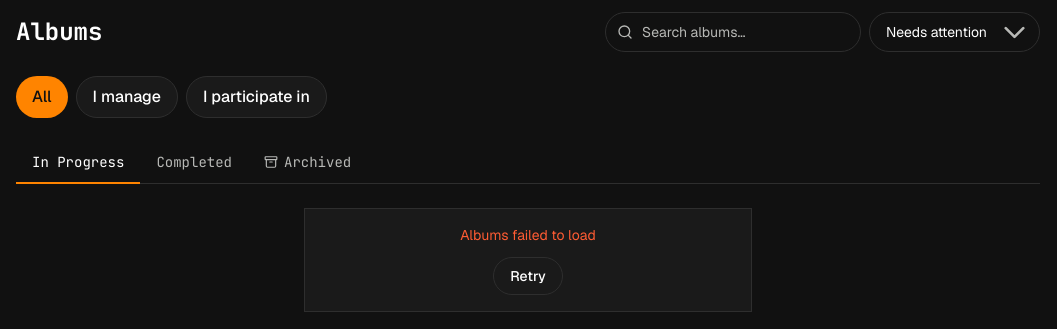
AlbumsView › shows a retryable error state instead of the empty state when loading fails
expect the text "No albums in progress" is not shown: met
Click the button "Retry" at [528, 276], box [493, 257, 563, 295]
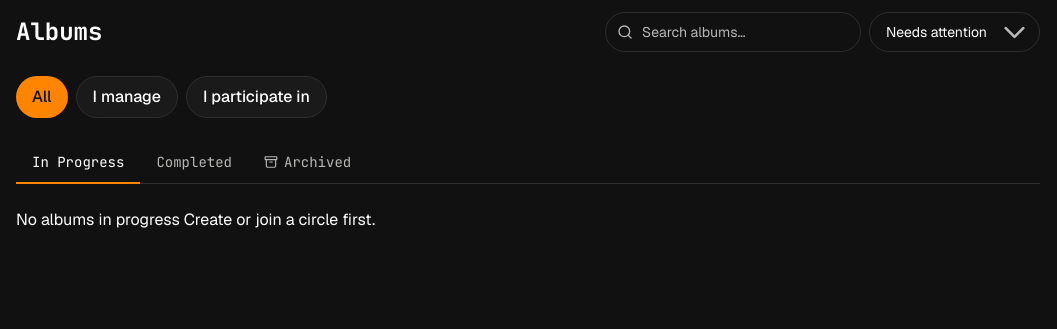
expect the text "Albums failed to load" is gone: met
expect the text "No albums in progress" is shown: met, box [16, 209, 375, 230]
